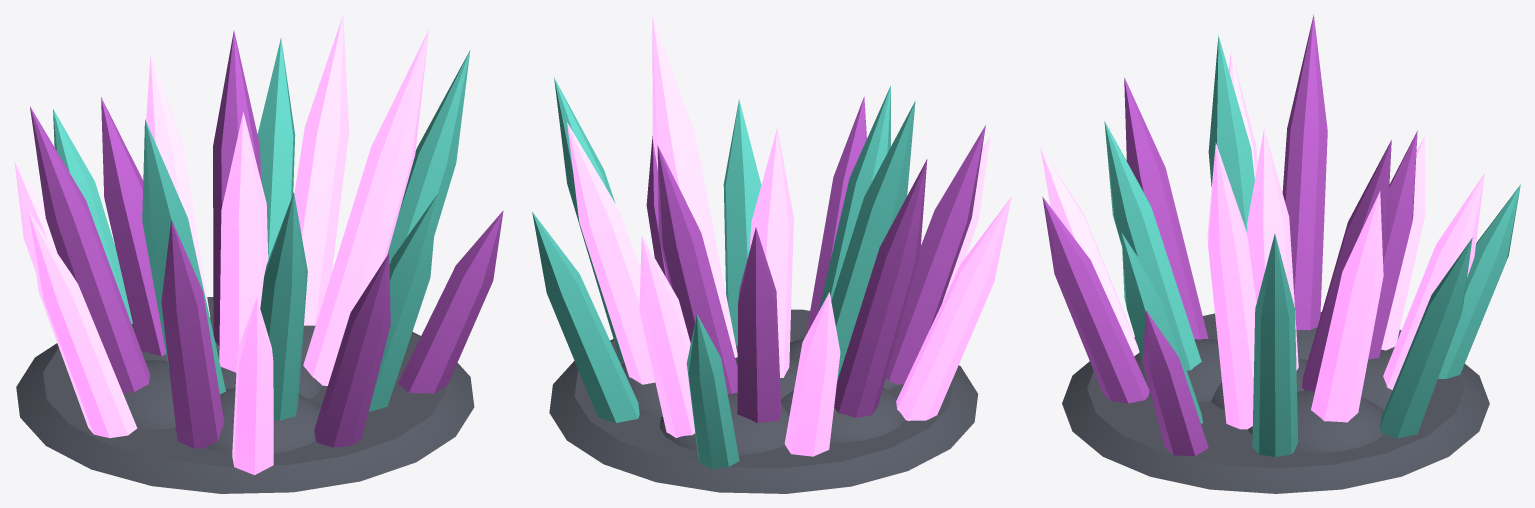
The model's file is gem_stage_4.glb.
The picture shows the model from 3 angles, left to right: view 1: azimuth 30°, elevation 25°; view 2: azimuth 150°, elevation 25°; view 3: azimuth 270°, elevation 25°; orthographic projection. The views are drawn at different scales.
Parts seen in each view (by area): view 1: Hull; view 2: Hull; view 3: Hull.
Boxes of the visible parts, x1,y1,x2,y2 form: Hull: (14, 15, 503, 493); Hull: (532, 15, 1011, 493); Hull: (1040, 14, 1520, 493).
Size of what is drawn, in the model's own units: 1.59 by 1.16 by 1.53.
